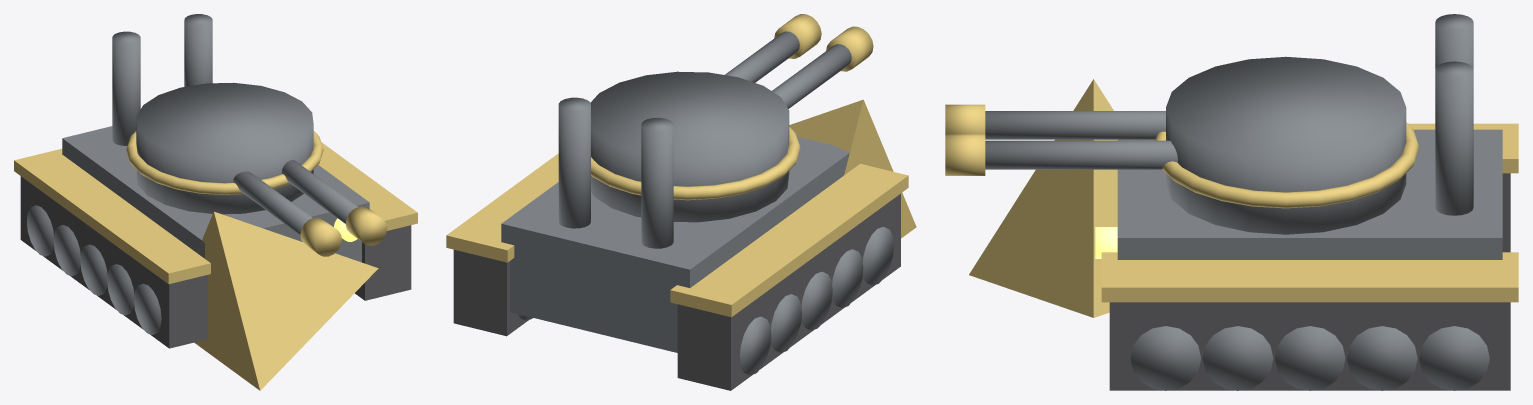
The model's file is enemy_tread_tank.glb.
3 views of the same model, side by side, from view 1: azimuth 30°, elevation 25°; view 2: azimuth 150°, elevation 25°; view 3: azimuth 270°, elevation 25° (orthographic). The views are drawn at different scales.
Visible parts, largest first — view 1: Cone, Cylinder.010, Cube.002, Cube, Cube.001, Cylinder.017, Cube.003, Cube.004, Torus, Cylinder.018, Cylinder.011, Cylinder.013 (+7 smaller); view 2: Cube, Cylinder.010, Cube.002, Cube.001, Cube.003, Cylinder.018, Cylinder.017, Cube.004, Cone, Torus, Cylinder.011, Cylinder.013 (+7 smaller); view 3: Cylinder.010, Cube, Cube.003, Cube.004, Cone, Cylinder.018, Cylinder.013, Cylinder.011, Torus, Cylinder.009, Cylinder.007, Cylinder.006 (+8 smaller).
Part boxes in pixels (x1,y1,x2,y2): Cone: (194, 211, 378, 390); Cylinder.010: (136, 82, 313, 214); Cube.002: (14, 148, 210, 284); Cube: (62, 126, 369, 262); Cube.001: (20, 176, 207, 348); Cylinder.017: (112, 31, 140, 145); Cube.003: (355, 225, 411, 300); Cube.004: (318, 142, 417, 230); Torus: (126, 131, 323, 194); Cylinder.018: (184, 14, 212, 86); Cylinder.011: (233, 171, 312, 234); Cylinder.013: (281, 160, 357, 223); Cube: (501, 136, 849, 352); Cylinder.010: (590, 71, 789, 222); Cube.002: (670, 163, 908, 317); Cube.001: (677, 193, 900, 390); Cube.003: (453, 249, 528, 336); Cylinder.018: (558, 97, 590, 228); Cylinder.017: (641, 117, 673, 248); Cube.004: (446, 153, 558, 262); Cone: (789, 99, 916, 238); Torus: (591, 127, 800, 200); Cylinder.011: (772, 44, 851, 108); Cylinder.013: (725, 31, 799, 82); Cylinder.010: (1166, 56, 1406, 234); Cube: (1117, 129, 1502, 259); Cube.003: (1109, 302, 1510, 390); Cube.004: (1101, 252, 1518, 302); Cone: (969, 79, 1117, 317); Cylinder.018: (1435, 61, 1473, 215); Cylinder.013: (985, 140, 1177, 169); Cylinder.011: (985, 111, 1165, 139); Torus: (1155, 122, 1418, 208); Cylinder.009: (1419, 326, 1489, 390); Cylinder.007: (1275, 326, 1345, 390); Cylinder.006: (1202, 326, 1273, 390).
Bounding box in the file's own units: 2.42 × 1.95 × 3.58.
